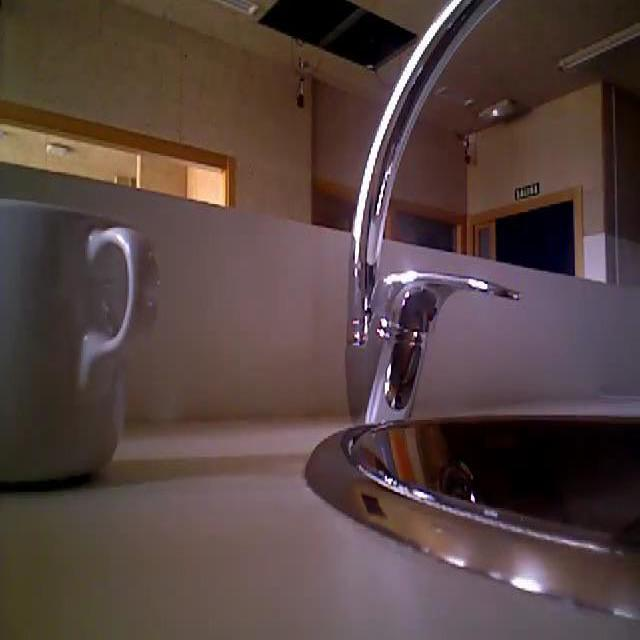cup: (0, 173, 167, 480)
